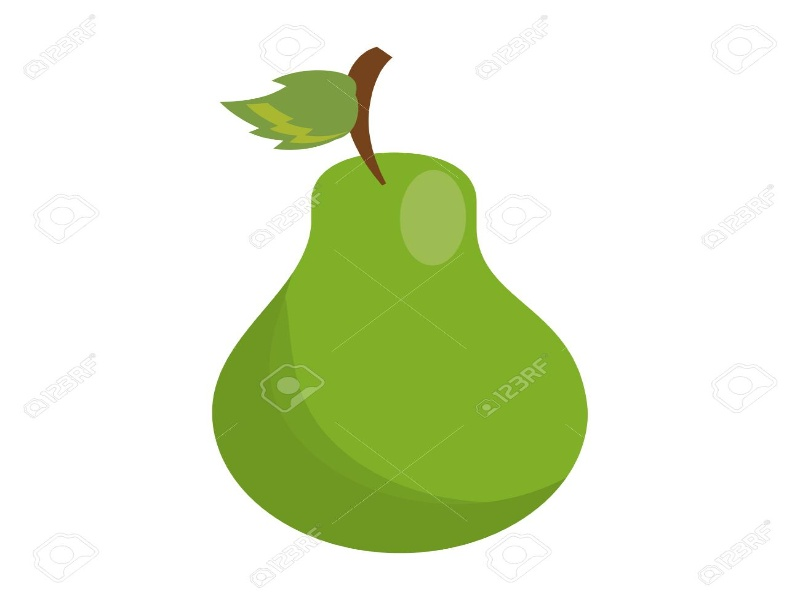Pera: (213, 48, 587, 553)
